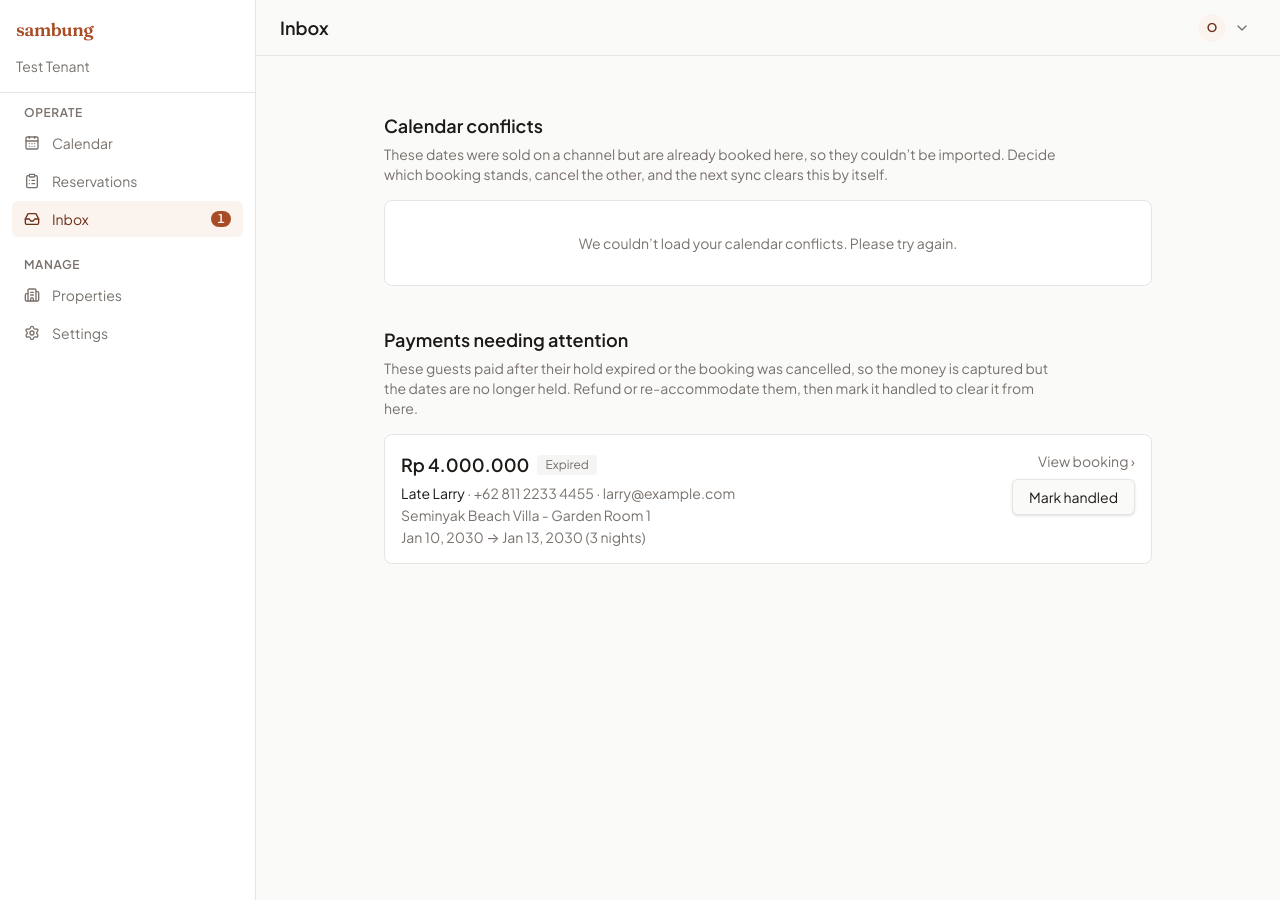
paid-but-lapsed inbox page (#120) › marks an item handled and refetches so it drops from the list
Click the button "Mark handled": (1074, 497) [1012,479,1135,515]
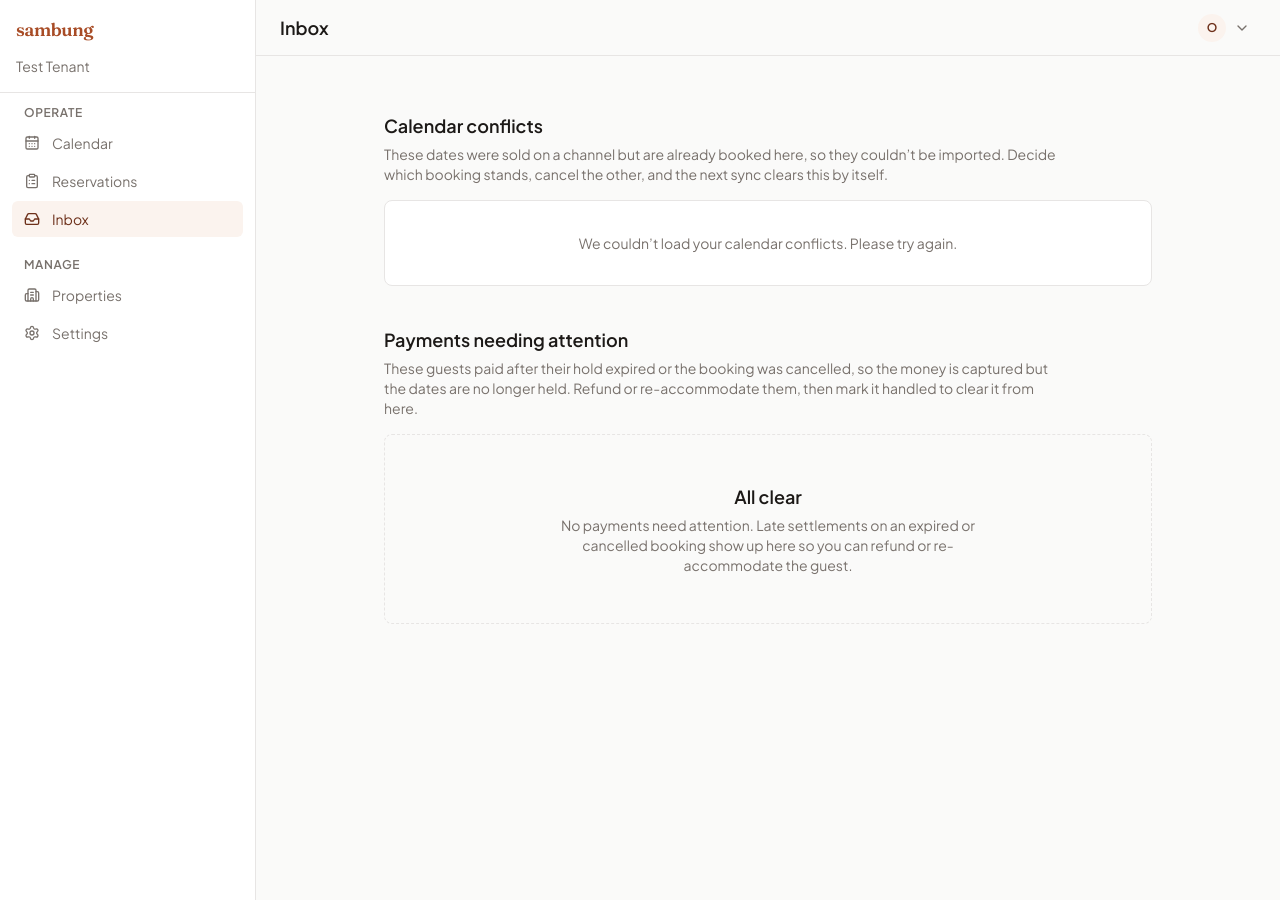
Result: the heading "All clear" is shown at [734,485,802,508]
